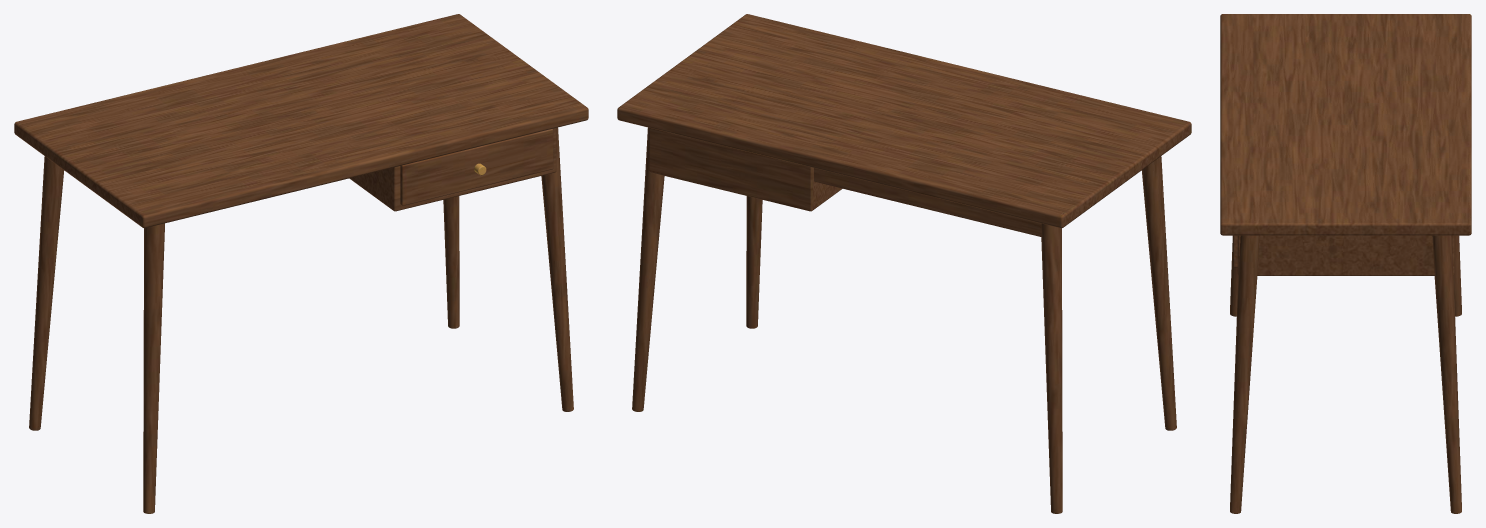
Rendered from desk.glb.
3 views of the same model, side by side, from view 1: azimuth 30°, elevation 25°; view 2: azimuth 150°, elevation 25°; view 3: azimuth 270°, elevation 25° (orthographic). The views are drawn at different scales.
Visible parts, largest first — view 1: Cube; view 2: Cube; view 3: Cube.
Part boxes in pixels (x1,y1,x2,y2): Cube: [14, 14, 588, 513]; Cube: [617, 14, 1191, 513]; Cube: [1220, 14, 1471, 513].
Bounding box in the file's own units: 1.15 × 0.7508 × 0.58.
1 material, 1 textured.
